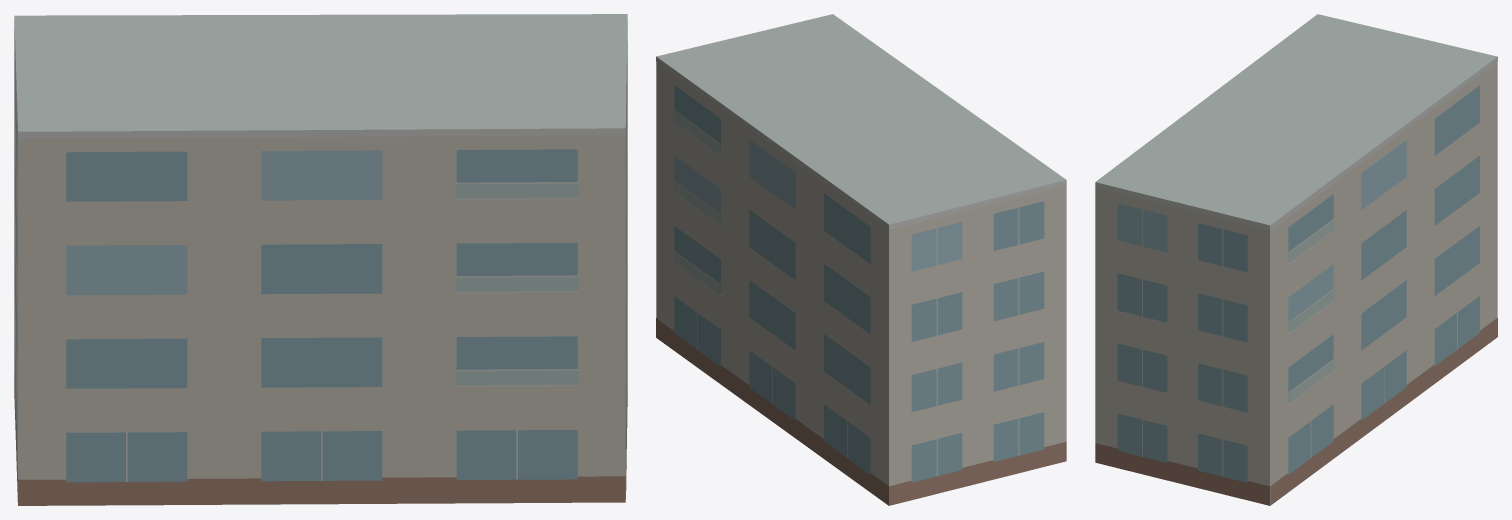
Rendered from survey-upis-32673591.glb.
3 views of the same model, side by side, from view 1: azimuth 30°, elevation 25°; view 2: azimuth 150°, elevation 25°; view 3: azimuth 270°, elevation 25° (orthographic). The views are drawn at different scales.
Parts seen in each view (by area): view 1: survey-upis-32673591.tmp; view 2: survey-upis-32673591.tmp; view 3: survey-upis-32673591.tmp.
Boxes of the visible parts, bbox=[...] form: survey-upis-32673591.tmp: bbox=[14, 14, 627, 505]; survey-upis-32673591.tmp: bbox=[656, 14, 1066, 505]; survey-upis-32673591.tmp: bbox=[1095, 14, 1497, 505].
Bounding box in the file's own units: 21.26 × 13.15 × 17.11.
